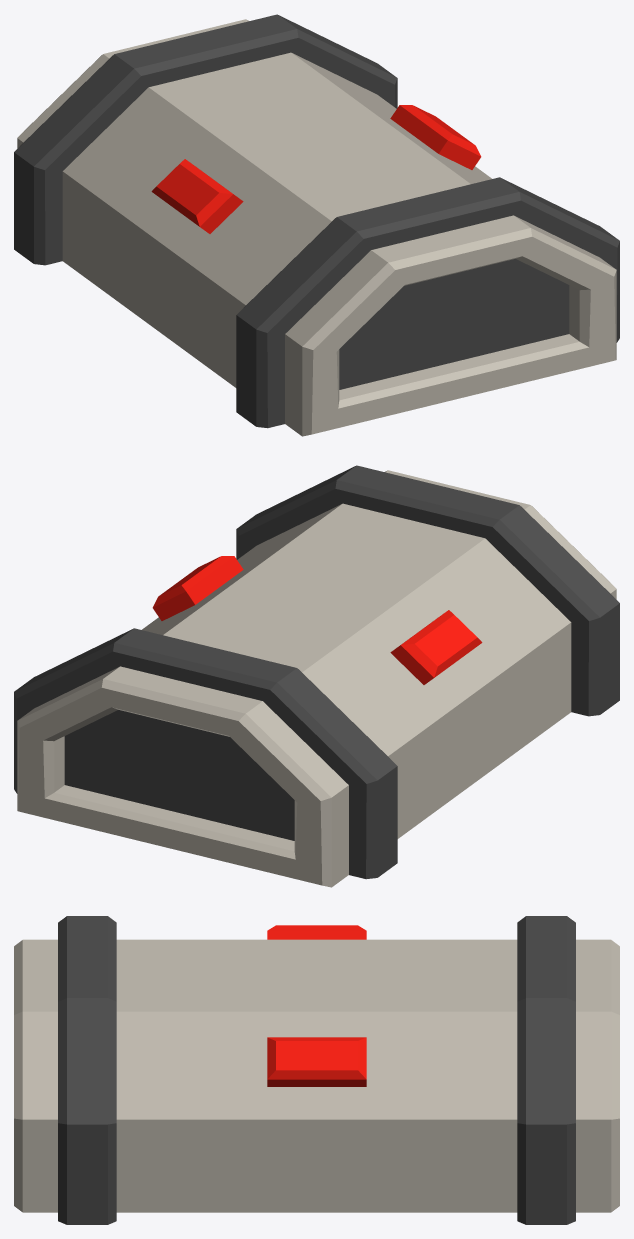
The model's file is 07 Power Supply.FBX.glb.
3 renders of one model, top to bottom at view 1: azimuth 30°, elevation 25°; view 2: azimuth 150°, elevation 25°; view 3: azimuth 270°, elevation 25°, orthographic. The views are drawn at different scales.
Parts seen in each view (by area): view 1: Box152.2; view 2: Box152.2; view 3: Box152.2.
Part boxes in pixels (<box>): Box152.2: <box>14,14,619,436</box>; Box152.2: <box>14,465,619,887</box>; Box152.2: <box>14,916,619,1224</box>.
Bounding box in the file's own units: 1480 × 665 × 2070.
